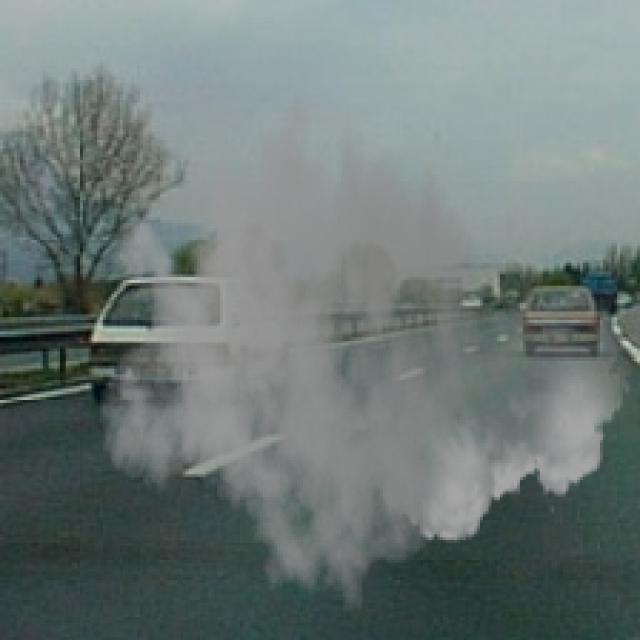Smoke: (97, 66, 632, 612)
